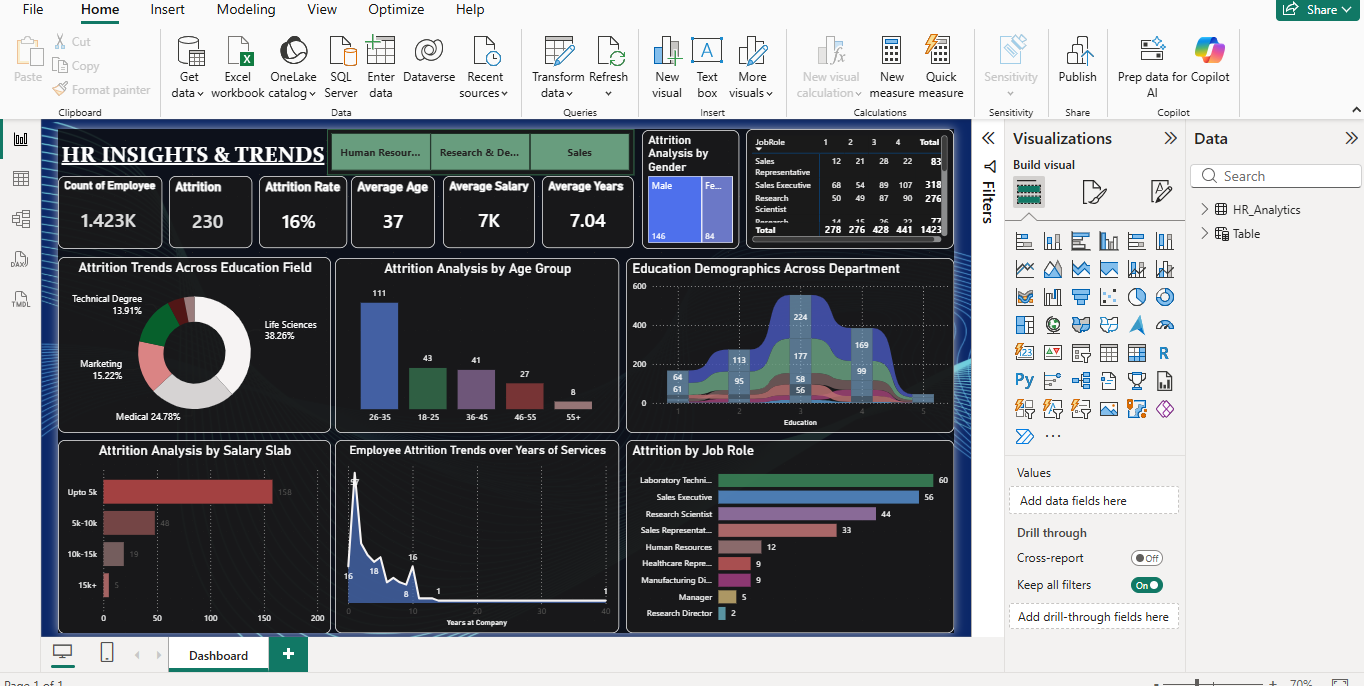

This screenshot's page, from the dashboard's own definition file:
{"tool":"powerbi","page":{"name":"Dashboard","canvas":[1280,720],"ordinal":0},"visuals":[{"type":"textbox","box":[0,11.2,390,56.2],"z":0},{"type":"cardVisual","title":"Count of Employee","fields":{"Data":["CountNonNull(HR_Analytics.EmployeeCount)"]},"box":[0,67.1,148.6,104.3],"z":1000},{"type":"cardVisual","title":"Attrition","fields":{"Data":["Table.Attrition_count"]},"box":[158.6,67.1,118.6,102.9],"z":2000},{"type":"cardVisual","title":"Attrition Rate","fields":{"Data":["Table.Attrition_Rate"]},"box":[287.1,67.1,125.7,102.9],"z":3000},{"type":"cardVisual","title":"Average Age","fields":{"Data":["Table.Average_age"]},"box":[418.6,67.1,120,102.9],"z":4000},{"type":"cardVisual","title":"Average Salary","fields":{"Data":["Table.Average_Salary"]},"box":[550,67.1,131.4,102.9],"z":5000},{"type":"cardVisual","title":"Average Years","fields":{"Data":["Table.Average_working_years"]},"box":[691.4,67.1,131.4,102.9],"z":6000},{"type":"treemap","title":"Attrition Analysis by Gender","fields":{"Group":["HR_Analytics.Gender"],"Values":["Table.Attrition_count"]},"box":[834.3,1.4,138.6,170],"z":7000},{"type":"pivotTable","fields":{"Columns":["HR_Analytics.JobSatisfaction"],"Rows":["HR_Analytics.JobRole"],"Values":["CountNonNull(HR_Analytics.EmployeeCount)"]},"box":[982.9,0,297.1,171.4],"z":8000},{"type":"donutChart","title":"Attrition Trends Across Education Field","fields":{"Category":["HR_Analytics.EducationField"],"Y":["Table.Attrition_count"]},"box":[0,182.9,390,251.4],"z":9000},{"type":"clusteredColumnChart","title":"Attrition Analysis by Age Group","fields":{"Category":["HR_Analytics.AgeGroup"],"Y":["Table.Attrition_count"]},"box":[395.7,184.3,405.7,250],"z":10000},{"type":"ribbonChart","title":"Education Demographics Across Department","fields":{"Category":["HR_Analytics.Education"],"Series":["HR_Analytics.EducationField"],"Y":["CountNonNull(HR_Analytics.Department)"]},"box":[811.4,184.3,468.6,250],"z":11000},{"type":"clusteredBarChart","title":"Attrition Analysis by Salary Slab","fields":{"Category":["HR_Analytics.SalarySlab"],"Y":["Table.Attrition_count"]},"box":[0,443.8,389.6,276.9],"z":12000},{"type":"areaChart","title":"Employee Attrition Trends over Years of Services","fields":{"Category":["HR_Analytics.YearsAtCompany"],"Y":["Table.Attrition_count"]},"box":[395.7,444.3,405.7,275.7],"z":13000},{"type":"clusteredBarChart","title":"Attrition by Job Role","fields":{"Category":["HR_Analytics.JobRole"],"Y":["Table.Attrition_count"]},"box":[811,444,469,276],"z":14000},{"type":"advancedSlicerVisual","fields":{"Values":["HR_Analytics.Department"]},"box":[384.3,0,438.6,65.7],"z":15000}]}

Visuals, with their boxes on the page's 1280x720 design canvas (x1, y1, x2, y2). These are canvas units, not pixel positions in the 1364x686 screenshot, which may show the page scaled, cropped or inside an application window:
textbox: l=0, t=11, r=390, b=67
"Count of Employee" cardVisual: l=0, t=67, r=149, b=171
"Attrition" cardVisual: l=159, t=67, r=277, b=170
"Attrition Rate" cardVisual: l=287, t=67, r=413, b=170
"Average Age" cardVisual: l=419, t=67, r=539, b=170
"Average Salary" cardVisual: l=550, t=67, r=681, b=170
"Average Years" cardVisual: l=691, t=67, r=823, b=170
"Attrition Analysis by Gender" treemap: l=834, t=1, r=973, b=171
pivotTable - HR_Analytics.JobSatisfaction x HR_Analytics.JobRole: l=983, t=0, r=1280, b=171
"Attrition Trends Across Education Field" donutChart: l=0, t=183, r=390, b=434
"Attrition Analysis by Age Group" clusteredColumnChart: l=396, t=184, r=801, b=434
"Education Demographics Across Department" ribbonChart: l=811, t=184, r=1280, b=434
"Attrition Analysis by Salary Slab" clusteredBarChart: l=0, t=444, r=390, b=721
"Employee Attrition Trends over Years of Services" areaChart: l=396, t=444, r=801, b=720
"Attrition by Job Role" clusteredBarChart: l=811, t=444, r=1280, b=720
advancedSlicerVisual - HR_Analytics.Department: l=384, t=0, r=823, b=66
